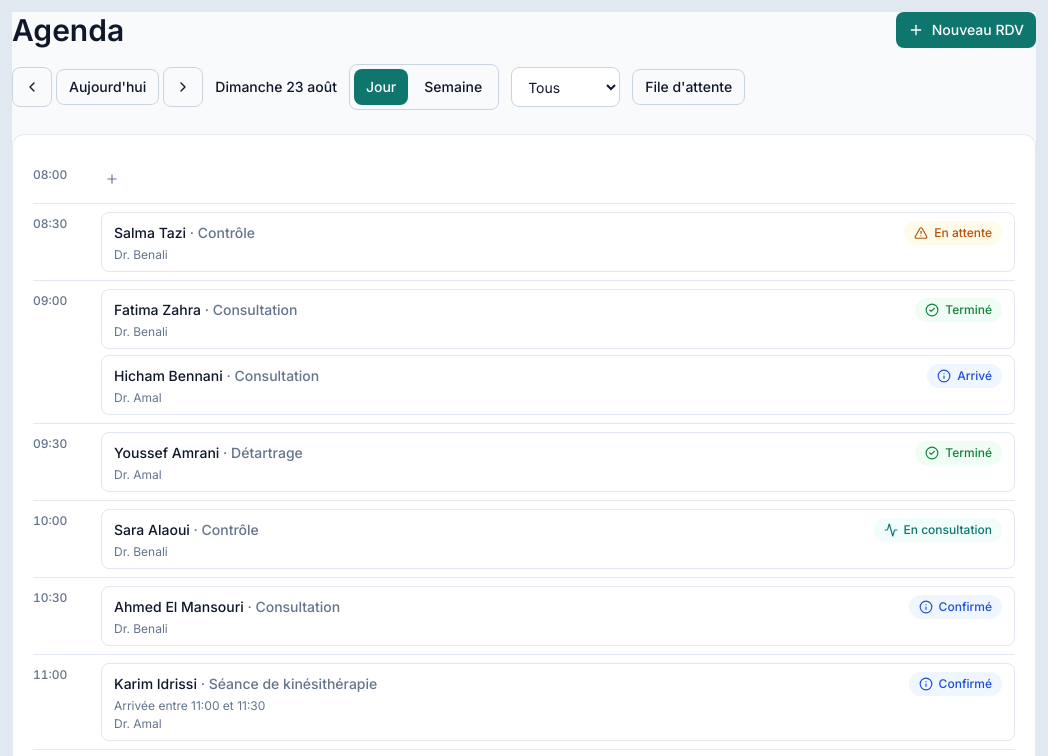
AgendaPage › filters appointments by practitioner (6)
Expected: the text "Ahmed El Mansouri" is shown, [114,598,244,615]
Select "Dr. Amal" in the dropdown named "Praticien" at (566, 87), box [511,67,620,107]
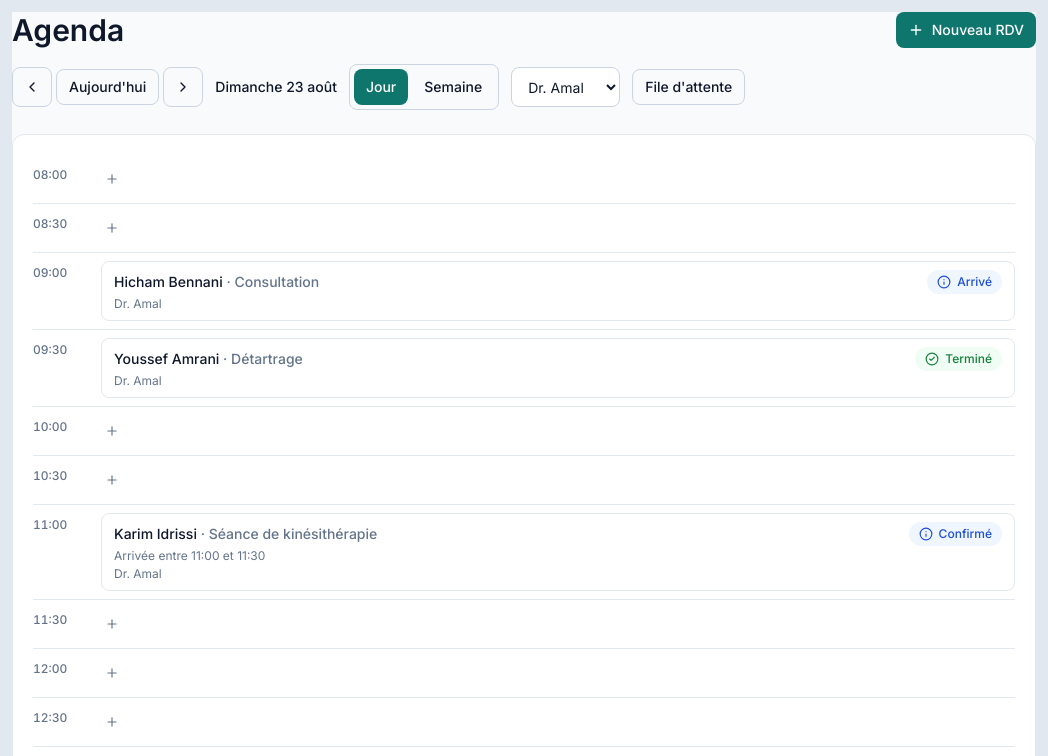
Expected: the text "Youssef Amrani" is shown, [114,350,219,367]
Now the button "Ahmed El Mansouri" is gone
